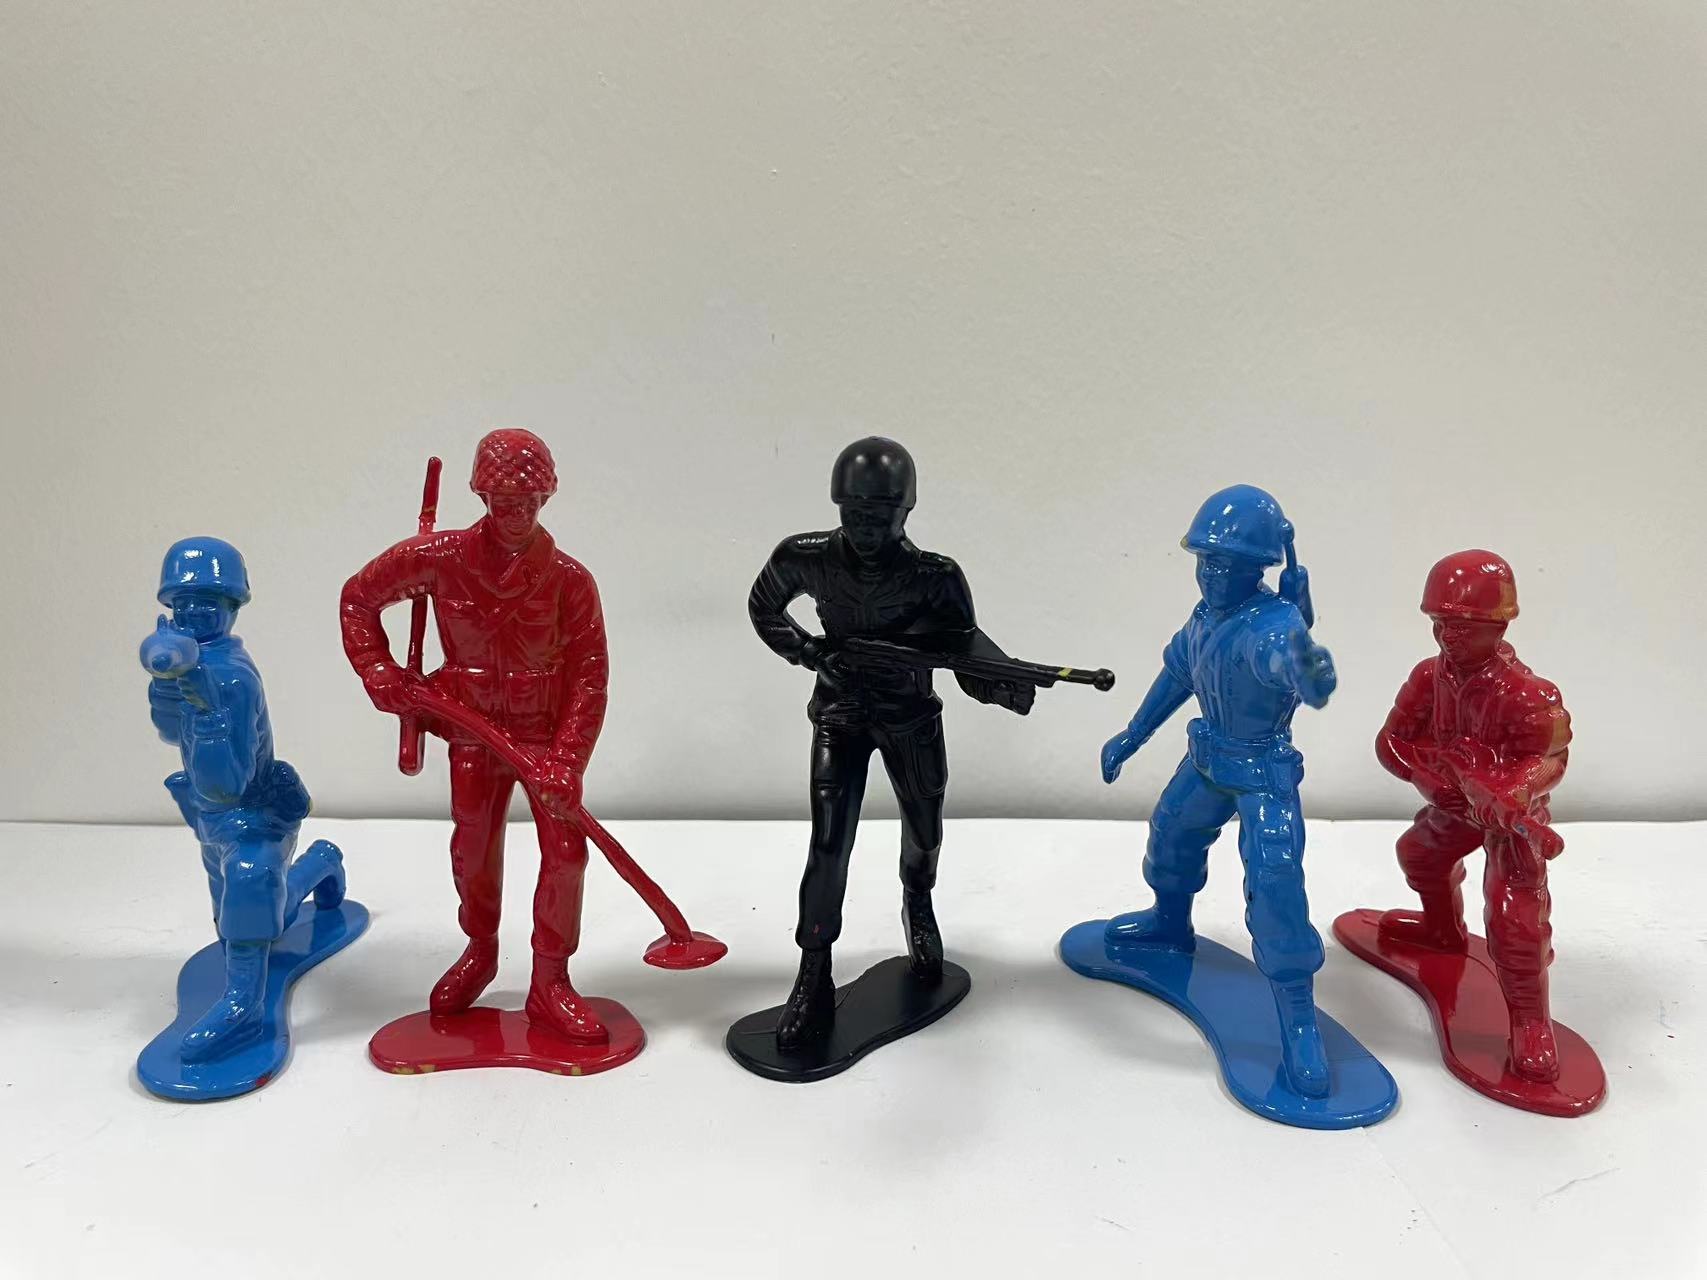black: (737, 397, 1081, 1133)
blue: (1069, 454, 1368, 1137), (65, 467, 352, 1140)
red: (331, 397, 708, 1152), (1337, 549, 1671, 1158)
